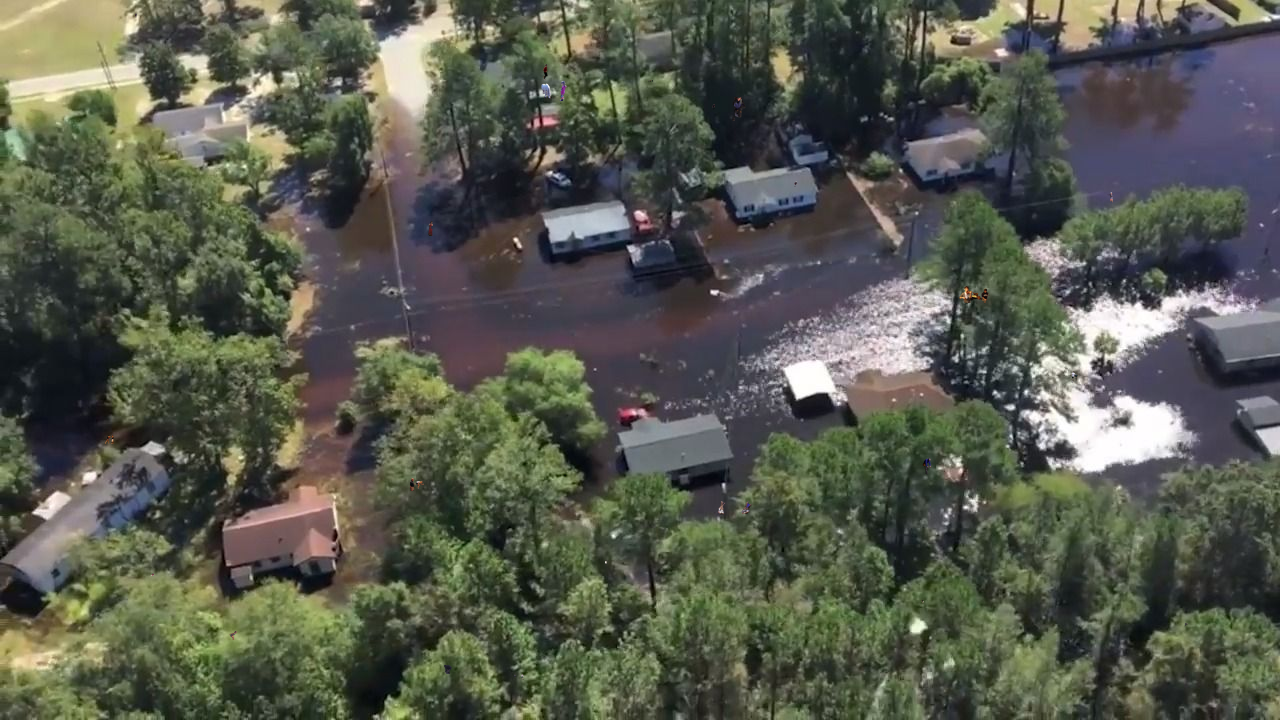Human: (959, 286, 990, 303), (541, 81, 567, 101), (717, 501, 753, 515), (730, 97, 746, 121), (922, 458, 936, 475), (410, 478, 424, 491), (105, 435, 116, 444), (1070, 371, 1078, 383), (444, 665, 454, 674), (1107, 192, 1115, 203), (543, 64, 548, 80), (428, 221, 433, 236), (229, 631, 237, 640), (514, 674, 524, 680), (794, 181, 798, 187), (712, 104, 715, 110), (1184, 623, 1188, 627), (150, 573, 154, 576), (605, 560, 607, 566), (921, 600, 924, 604), (648, 80, 653, 82), (135, 13, 137, 18)
